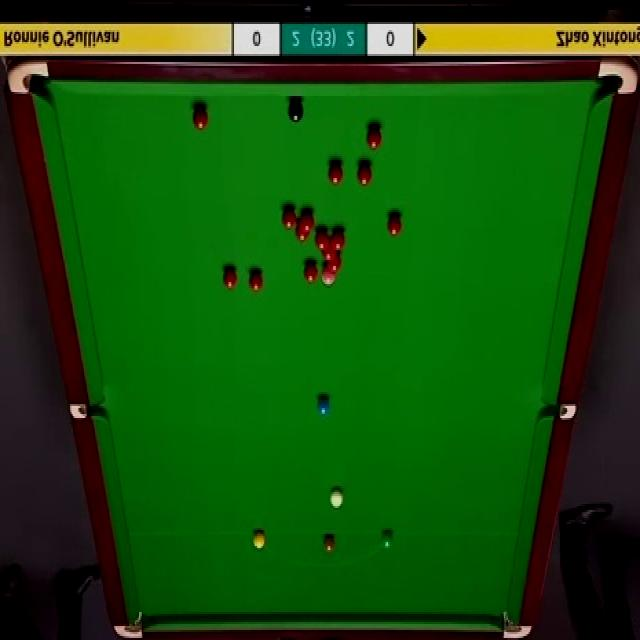black-ball: (286, 102, 304, 125)
blue-ball: (316, 398, 331, 415)
brown-ball: (324, 534, 335, 552)
green-ball: (380, 530, 395, 552)
pink-ball: (318, 270, 334, 284)
red-ball: (192, 102, 208, 130), (386, 213, 402, 240), (221, 266, 237, 290), (314, 228, 330, 251), (300, 212, 316, 235), (329, 159, 344, 183), (365, 126, 379, 151), (356, 166, 370, 187), (250, 274, 266, 292), (282, 208, 297, 227), (330, 234, 344, 254), (320, 244, 334, 262), (305, 263, 317, 284), (327, 255, 341, 272)
white-ball: (329, 489, 344, 508)
yellow-ball: (253, 530, 265, 550)
